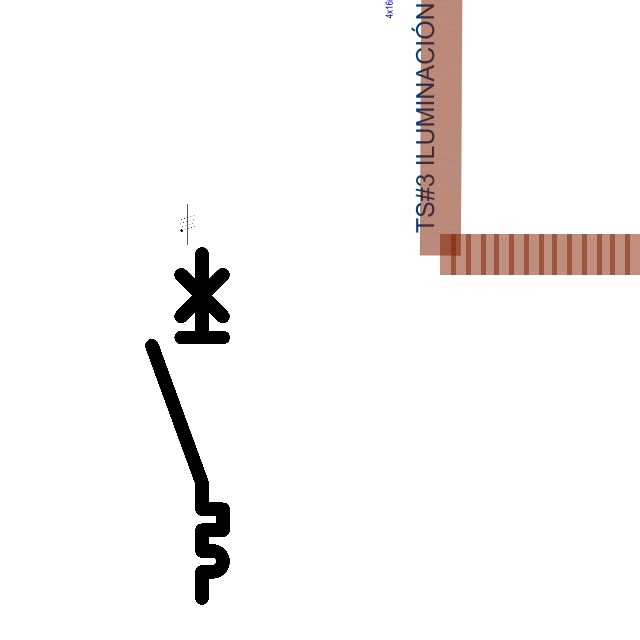interruptor_termomagnetico: (143, 245, 232, 607)
